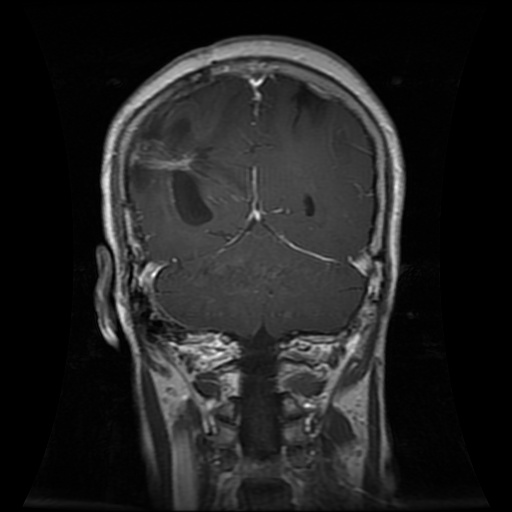glioma: (126, 96, 225, 227)
